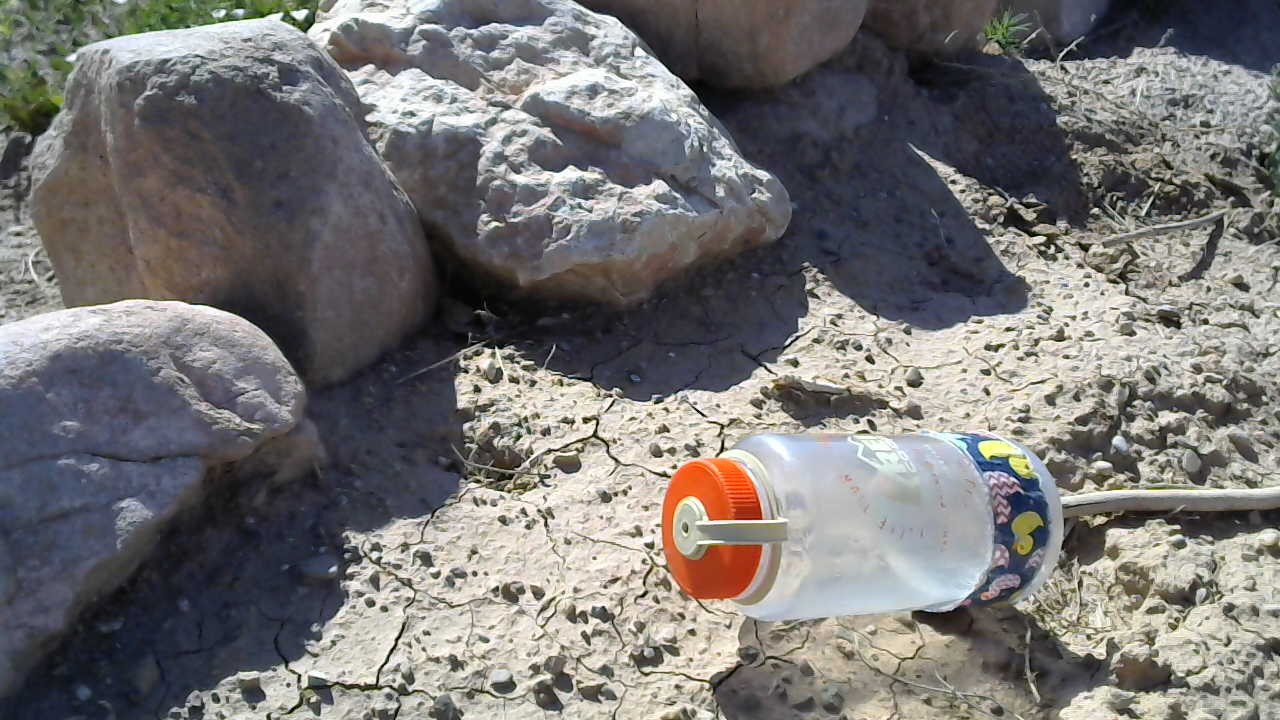bottle: (654, 410, 1066, 637)
